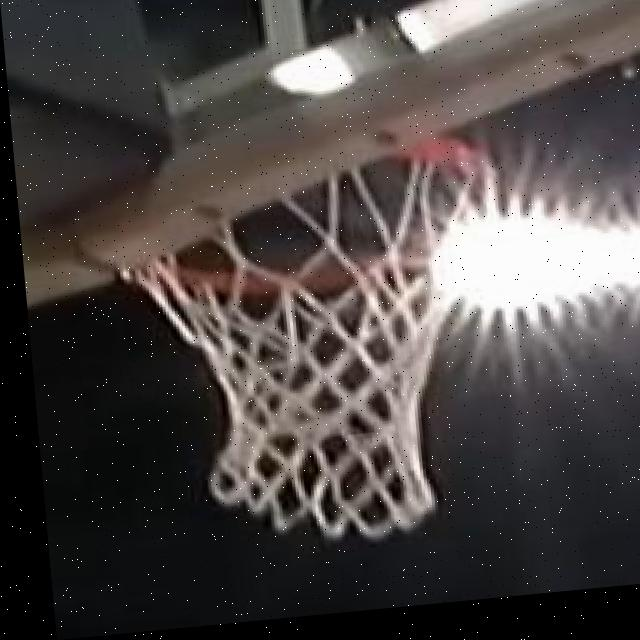hoop: (168, 110, 503, 541)
